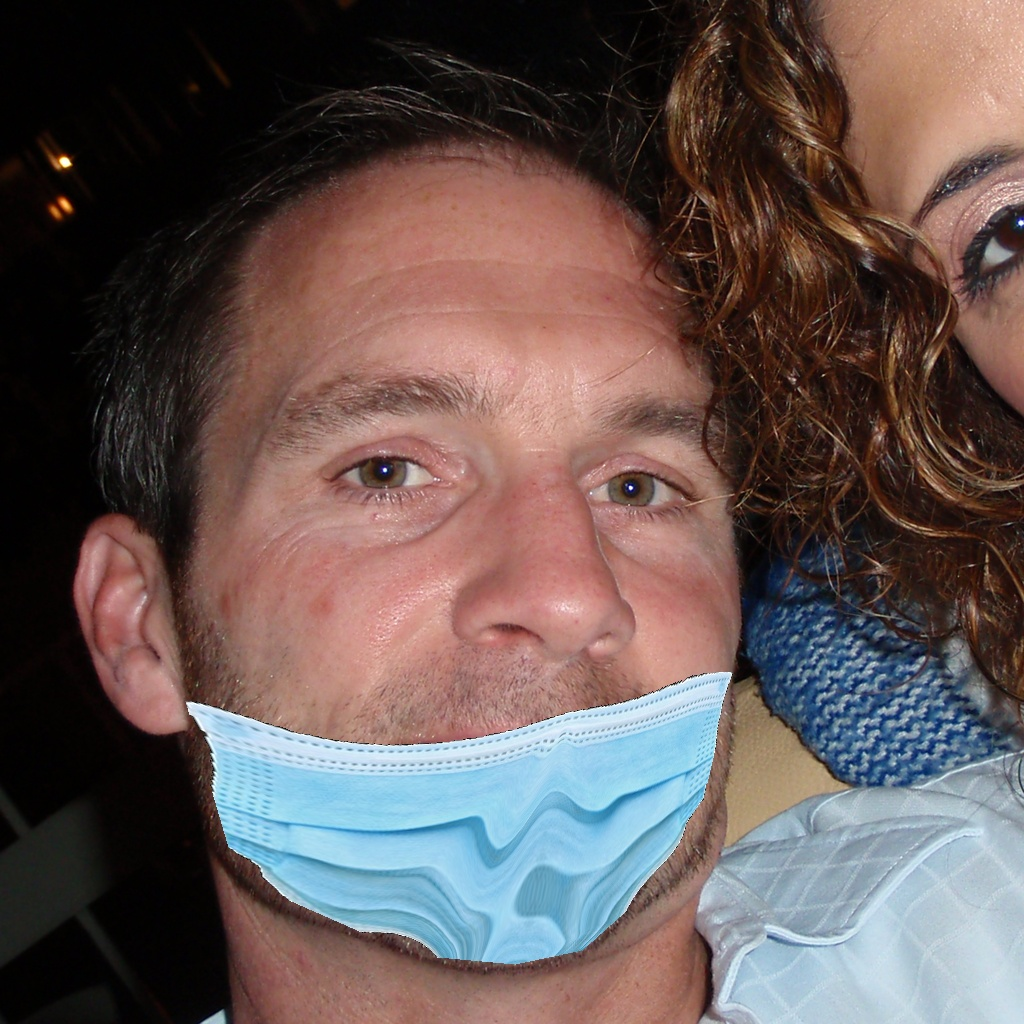mascarilla_mal_puesta: (202, 335, 764, 905)
